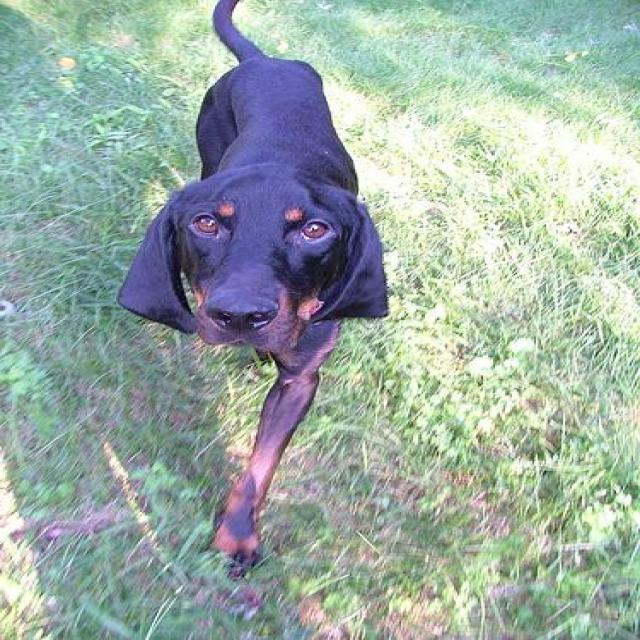adult_dog: (114, 0, 393, 578)
